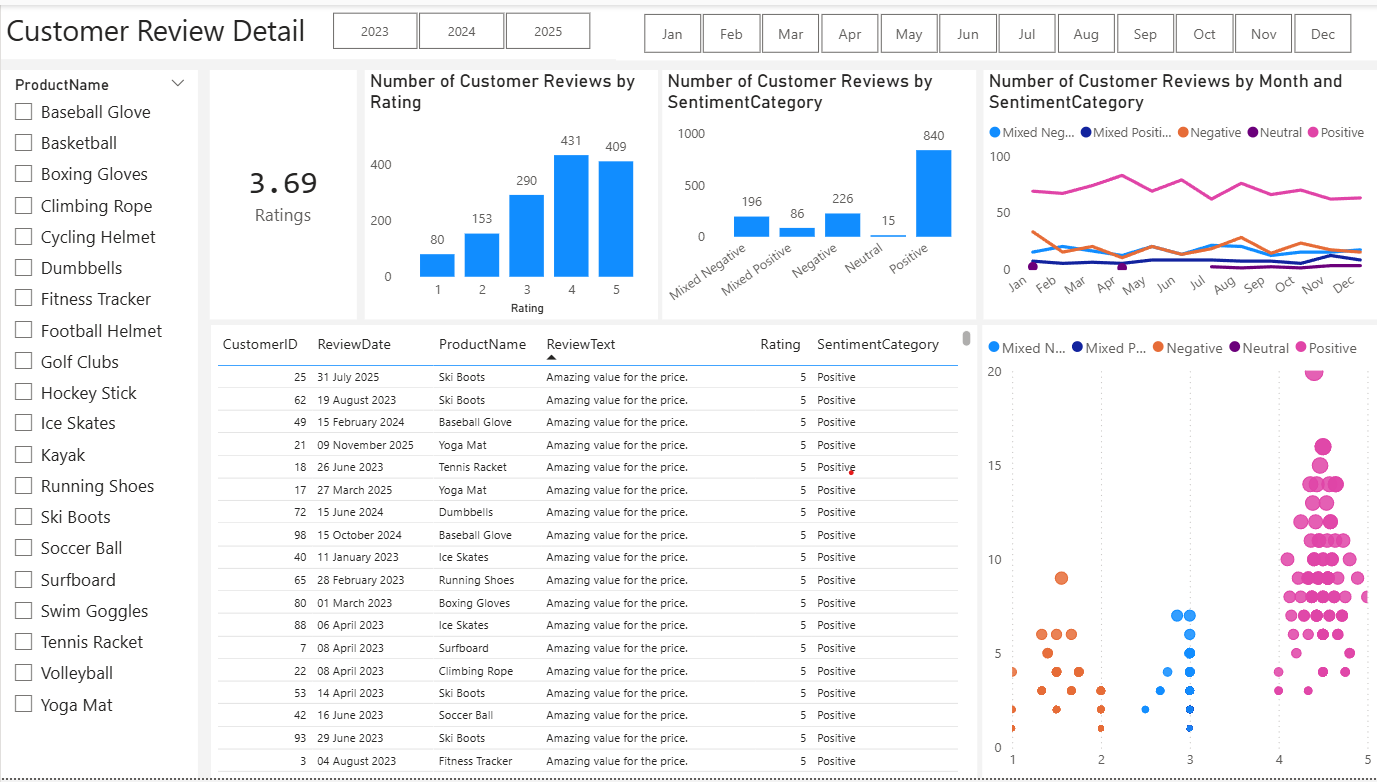

Layout of this report page (visuals, bound fields, positions):
{"tool":"powerbi","page":{"name":"Customer Review Details","canvas":[1280,720],"ordinal":3},"visuals":[{"type":"textbox","box":[0,0,1280.3,50.1],"z":0},{"type":"slicer","fields":{"Values":["Dim_Products.ProductName"]},"box":[0,59.9,183.4,660.3],"z":1000},{"type":"slicer","fields":{"Values":["Dim_Calender.MonthNameShort"]},"box":[572.3,1.2,708,50.1],"z":2000},{"type":"slicer","fields":{"Values":["Dim_Calender.Year"]},"box":[282.5,0,289.8,47.7],"z":3000},{"type":"cardVisual","fields":{"Data":["Measures (2).Average_Ratings"]},"box":[194.4,59.9,137,232.3],"z":4000},{"type":"clusteredColumnChart","fields":{"Y":["Measures (2).Number_of_Customer_Reviews"],"Category":["fact_customer_reviews_with_sentiment.Rating"]},"box":[337.8,59.9,272.7,232.3],"z":5000},{"type":"clusteredColumnChart","fields":{"Y":["Measures (2).Number_of_Customer_Reviews"],"Category":["fact_customer_reviews_with_sentiment.SentimentCategory"]},"box":[615.4,59.9,292.3,232.3],"z":6000},{"type":"lineChart","fields":{"Y":["Measures (2).Number_of_Customer_Reviews"],"Series":["fact_customer_reviews_with_sentiment.SentimentCategory"],"Category":["Dim_Calender.MonthNameShort"]},"box":[913.5,59.9,366.8,232.3],"z":7000},{"type":"tableEx","fields":{"Values":["fact_customer_reviews_with_sentiment.CustomerID","fact_customer_reviews_with_sentiment.ReviewDate","Dim_Products.ProductName","fact_customer_reviews_with_sentiment.ReviewText","fact_customer_reviews_with_sentiment.Rating","fact_customer_reviews_with_sentiment.SentimentCategory"]},"box":[195,297.5,712.5,422.5],"z":8000},{"type":"scatterChart","fields":{"Y":["Measures (2).Number_of_Customer_Reviews"],"X":["Measures (2).Average_Ratings"],"Series":["fact_customer_reviews_with_sentiment.SentimentCategory"],"Category":["fact_customer_reviews_with_sentiment.CustomerID"],"Size":["Measures (2).Number_of_Customer_Reviews"]},"box":[912.5,297.5,367.5,422.5],"z":9000}]}

Visuals, with their boxes in screenshot pixels (x1, y1, x2, y2), scaled from the page's 1280x720 canvas onto the 1377x782 screenshot:
textbox: x1=0 y1=0 x2=1376 y2=54
slicer - Dim_Products.ProductName: x1=0 y1=65 x2=197 y2=781
slicer - Dim_Calender.MonthNameShort: x1=616 y1=1 x2=1376 y2=56
slicer - Dim_Calender.Year: x1=304 y1=0 x2=616 y2=52
cardVisual - Measures (2).Average_Ratings: x1=209 y1=65 x2=357 y2=317
clusteredColumnChart - Measures (2).Number_of_Customer_Reviews x fact_customer_reviews_with_sentiment.Rating: x1=363 y1=65 x2=657 y2=317
clusteredColumnChart - Measures (2).Number_of_Customer_Reviews x fact_customer_reviews_with_sentiment.SentimentCategory: x1=662 y1=65 x2=976 y2=317
lineChart - Measures (2).Number_of_Customer_Reviews x fact_customer_reviews_with_sentiment.SentimentCategory: x1=983 y1=65 x2=1376 y2=317
tableEx - fact_customer_reviews_with_sentiment.CustomerID x fact_customer_reviews_with_sentiment.ReviewDate: x1=210 y1=323 x2=976 y2=781
scatterChart - Measures (2).Number_of_Customer_Reviews x Measures (2).Average_Ratings: x1=982 y1=323 x2=1376 y2=781
